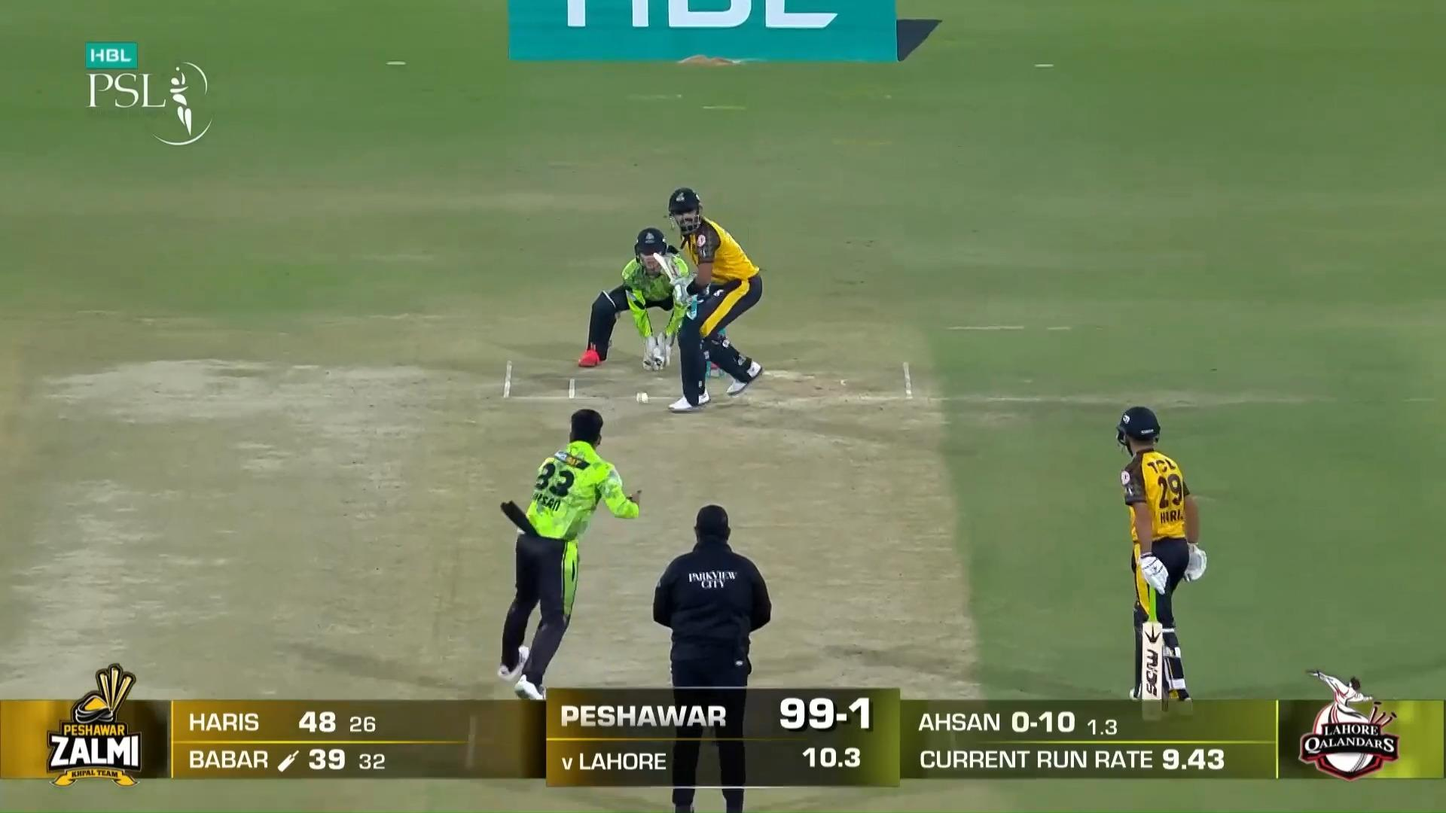batsman: (653, 187, 765, 410)
